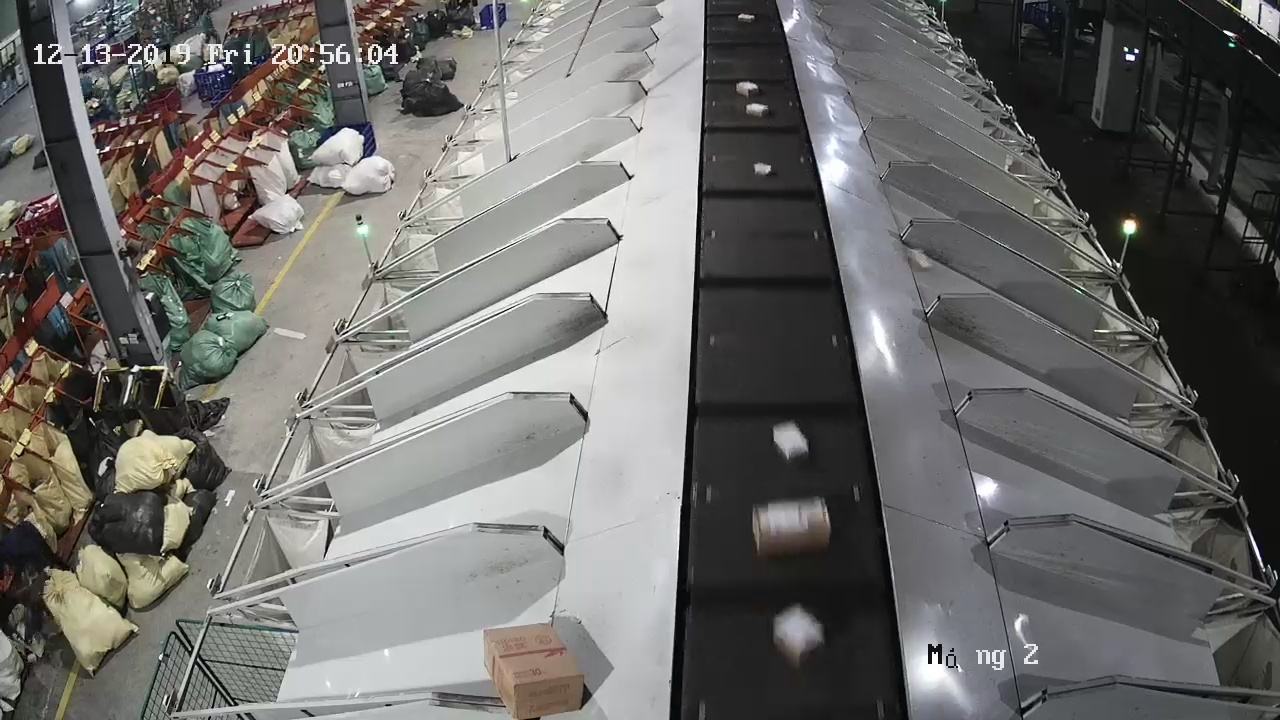parcel: (905, 246, 933, 272)
